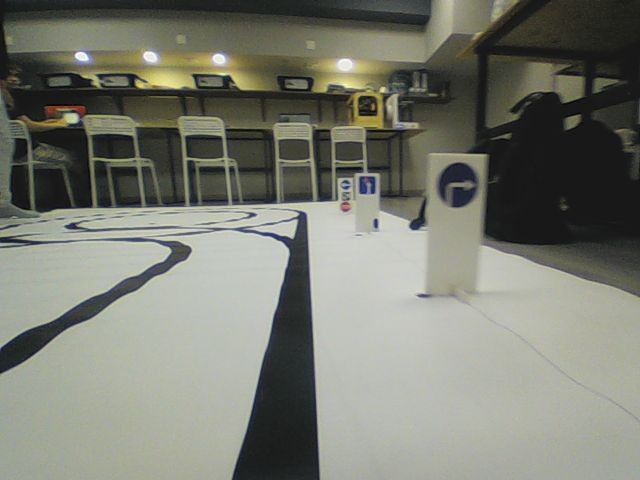Right: (436, 161, 480, 209)
priority_movement: (358, 175, 376, 195)
